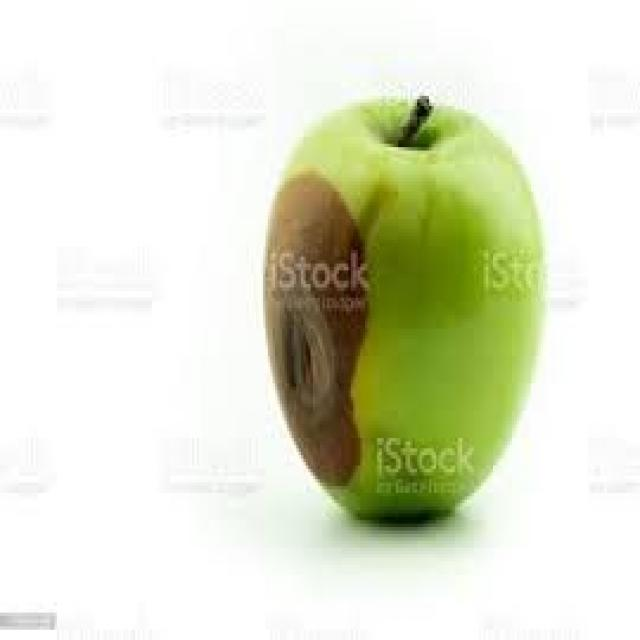Rotten: (274, 106, 544, 542)
